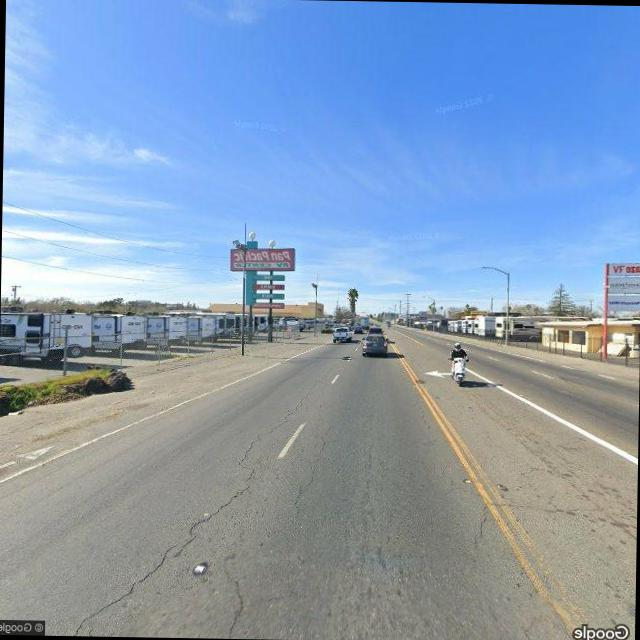pothole: (68, 463, 258, 636), (238, 383, 316, 460), (281, 432, 337, 514)
